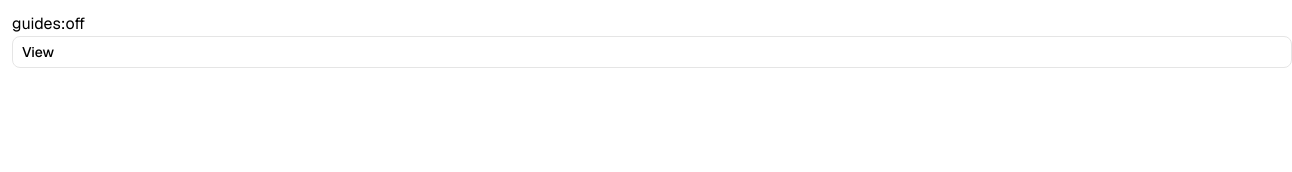
Test: Menubar › toggles a checkbox item
The width and height of the screenshot is (1292, 172).
Expected: the text "guides:off" is shown, [12,13,85,34]
Click the menu item "View": (38, 52) [16,40,60,64]
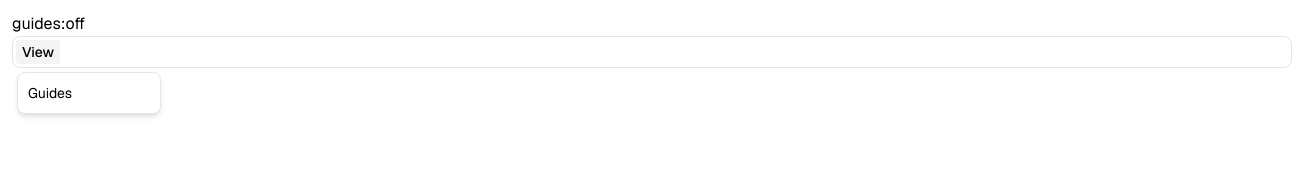
Click the menu item "Guides": (50, 93) [28,84,72,102]
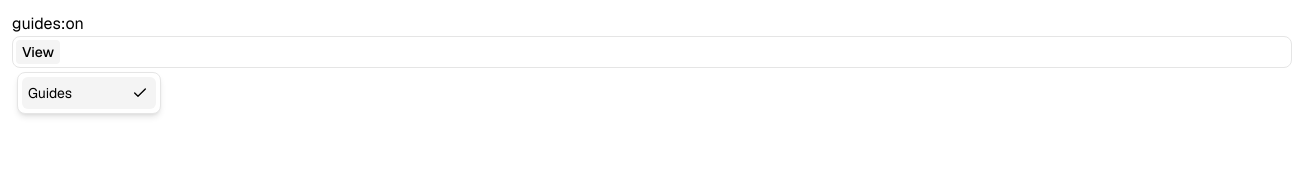
Expected: the text "guides:on" is shown, [12,13,84,34]
